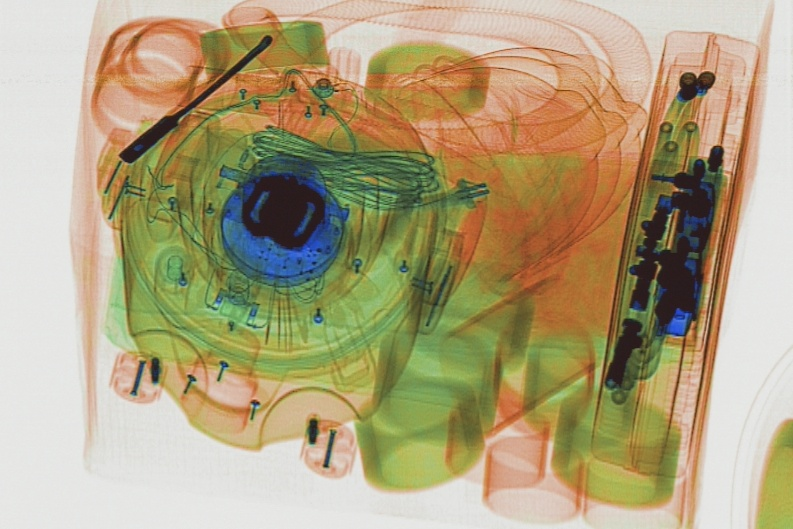jianruigongju: (116, 31, 274, 165)
